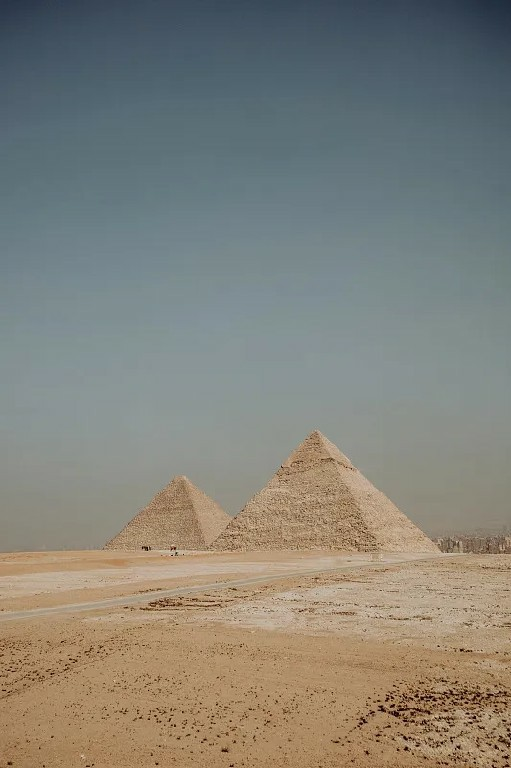Pyramid: (207, 431, 442, 555), (102, 476, 232, 549)
